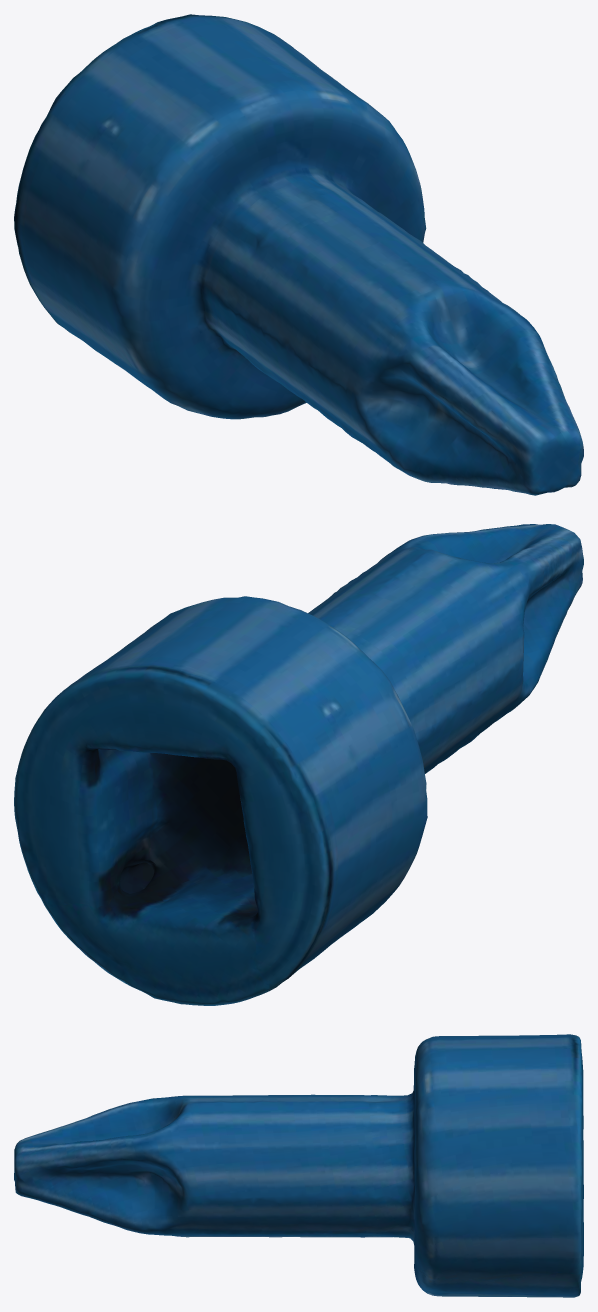
The model's file is ddg-ycb_072-d_toy_airplane.glb.
The picture shows the model from 3 angles, top to bottom: view 1: azimuth 30°, elevation 25°; view 2: azimuth 150°, elevation 25°; view 3: azimuth 270°, elevation 25°; orthographic projection. The views are drawn at different scales.
Parts seen in each view (by area): view 1: textured(Clone); view 2: textured(Clone); view 3: textured(Clone).
Part boxes in pixels (box(x1,y1,x2,y2)): textured(Clone): box(14, 14, 583, 495); textured(Clone): box(14, 524, 583, 1005); textured(Clone): box(14, 1034, 583, 1297).
Bounding box in the file's own units: 0.8408 × 0.8421 × 1.82.
1 material, 1 textured.
